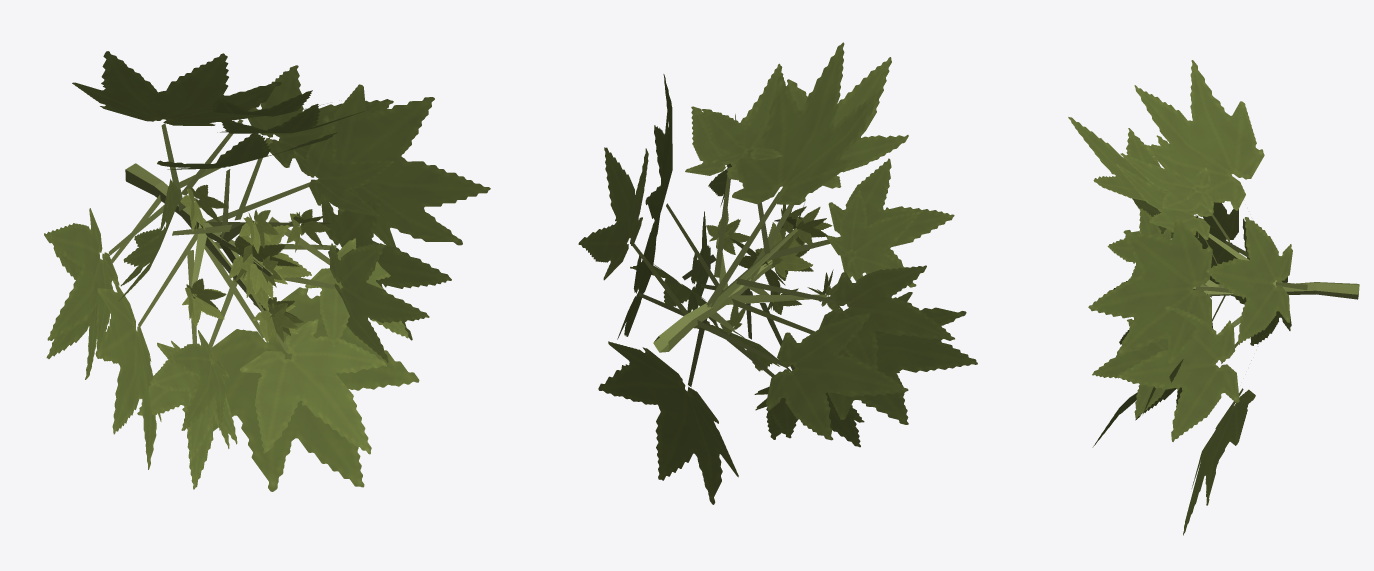
File: p_kush_vegetative_c1_cards.obj
The picture shows the model from 3 angles, left to right: view 1: azimuth 30°, elevation 25°; view 2: azimuth 150°, elevation 25°; view 3: azimuth 270°, elevation 25°; orthographic projection. The views are drawn at different scales.
Bounding box in the file's own units: 1.08 × 1.36 × 0.817.
Materials: 1 (1 with a texture image).
